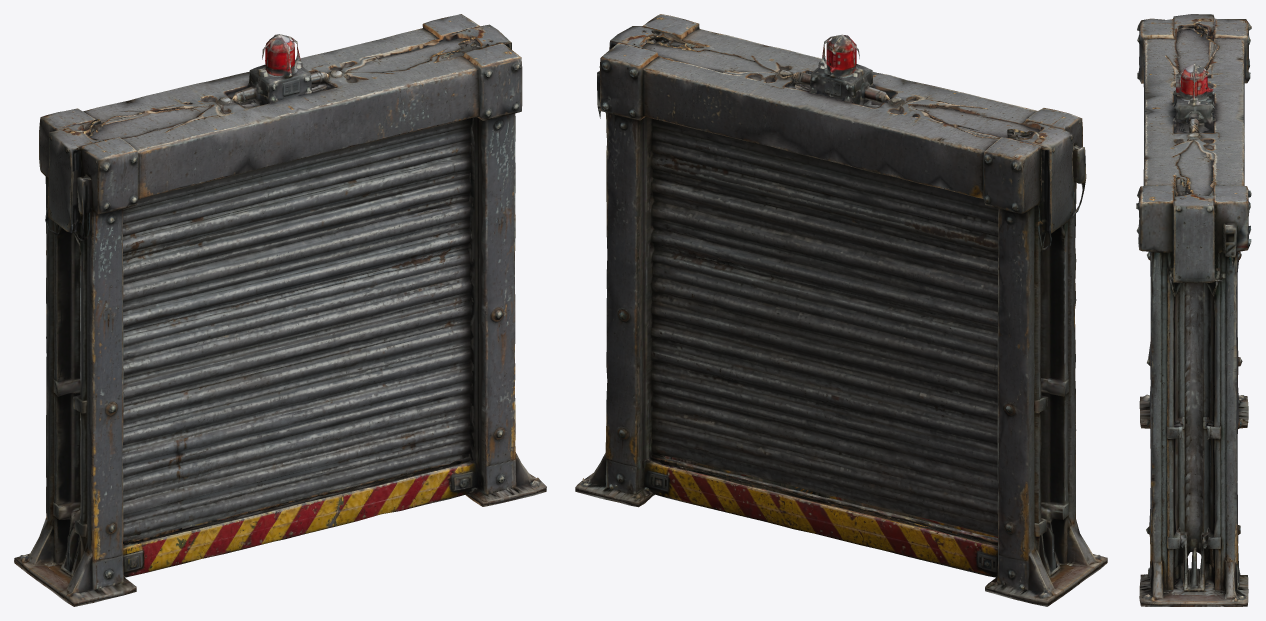
Rendered from BKI_Shutter.fbx.
The picture shows the model from 3 angles, left to right: view 1: azimuth 30°, elevation 25°; view 2: azimuth 150°, elevation 25°; view 3: azimuth 270°, elevation 25°; orthographic projection. The views are drawn at different scales.
Visible parts, largest first — view 1: texture_mapping; view 2: texture_mapping; view 3: texture_mapping.
Boxes of the visible parts, x1,y1,x2,y2 form: texture_mapping: [14, 14, 546, 606]; texture_mapping: [575, 14, 1107, 606]; texture_mapping: [1136, 14, 1251, 606].
Size of the model in its own units: 1 by 0.2358 by 0.995.
1 material, 1 textured.
